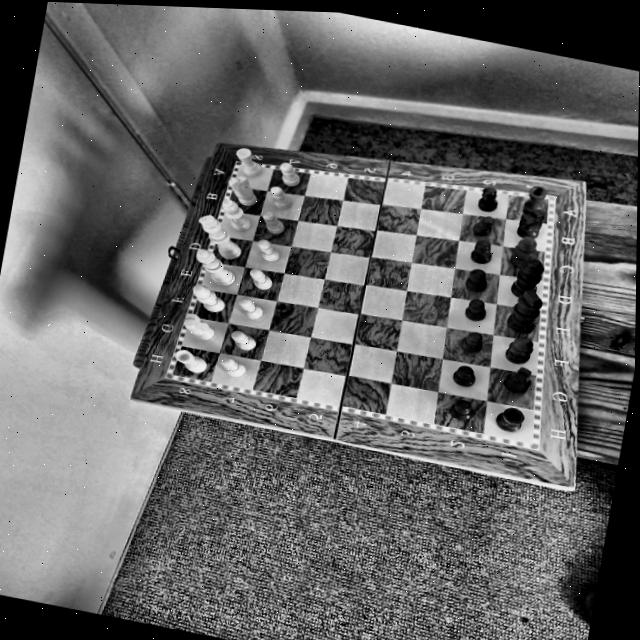black-bishop: (500, 327, 537, 366), (506, 233, 542, 269)
black-king: (498, 283, 549, 334)
black-knight: (495, 358, 537, 396), (511, 202, 549, 241)
black-pawn: (468, 179, 506, 216), (445, 361, 477, 391), (458, 264, 490, 293), (466, 237, 494, 268), (458, 296, 490, 323), (444, 397, 475, 424), (465, 212, 496, 238), (459, 329, 484, 356)
black-queen: (504, 251, 550, 300)
black-rook: (484, 400, 530, 435), (516, 180, 552, 217)
white-bishop: (186, 283, 228, 315), (217, 197, 254, 233)
white-king: (189, 210, 243, 261)
white-knight: (175, 309, 220, 343), (224, 173, 262, 206)
white-pawn: (271, 156, 307, 189), (224, 324, 259, 355), (255, 209, 289, 239), (212, 351, 247, 380), (242, 265, 277, 293), (229, 294, 266, 320), (263, 183, 291, 210), (252, 236, 280, 260)
white-queen: (186, 246, 239, 289)
white-rook: (229, 140, 269, 179), (171, 346, 209, 378)
